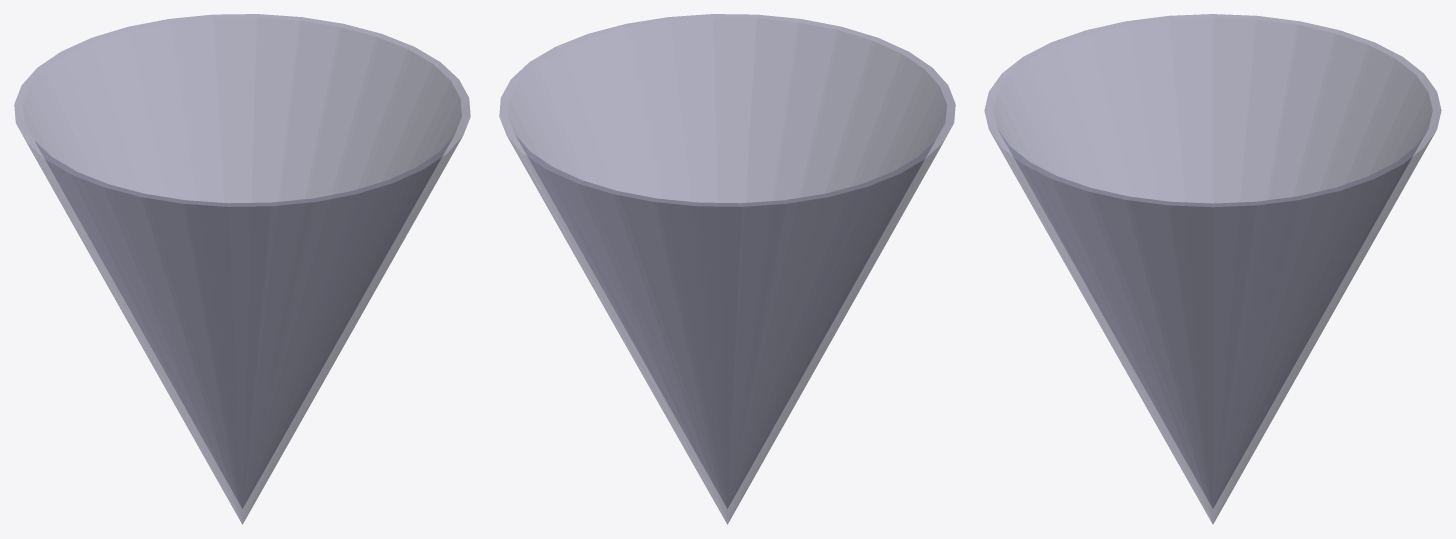
File: cone1blue.dae
3 views of the same model, side by side, from view 1: azimuth 30°, elevation 25°; view 2: azimuth 150°, elevation 25°; view 3: azimuth 270°, elevation 25° (orthographic).
Parts seen in each view (by area): view 1: Cone; view 2: Cone; view 3: Cone.
Part boxes in pixels (left/top/right/bottom): Cone: left=14, top=14, right=470, bottom=524; Cone: left=499, top=14, right=955, bottom=524; Cone: left=984, top=14, right=1441, bottom=523.
Size of the model in its own units: 0.391 by 0.391 by 0.391.
